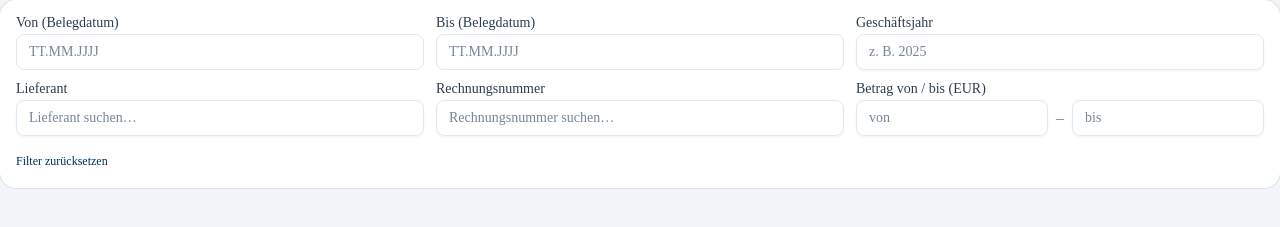
Test: ArchiveSearchFilters › minAmount > maxAmount shows German error message and blocks URL write for amounts
Type "500" into the number field named "Betrag von" at (952, 118), box [856,100,1048,136]
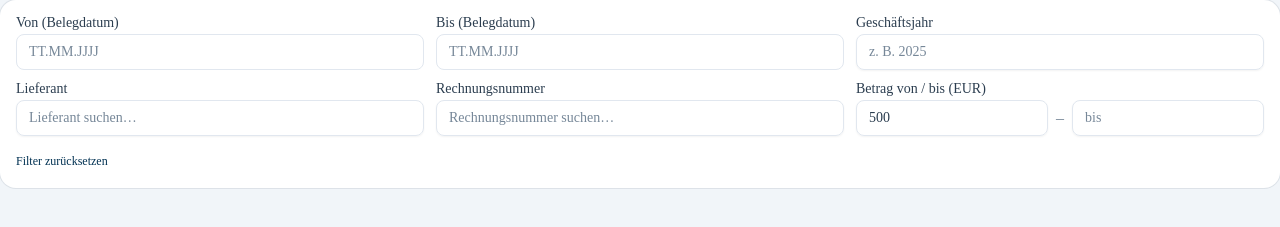
Type "100" into the number field named "Betrag bis" at (1168, 118), box [1072,100,1264,136]
Wait 300 ms
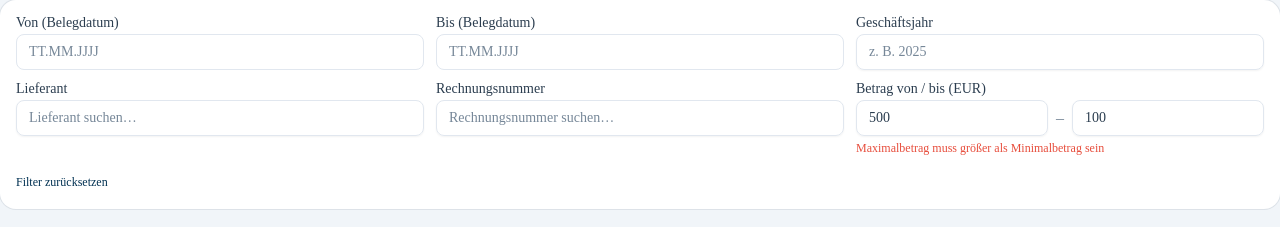
Check: the message reads "Maximalbetrag muss größer als Minimalbetrag sein", box [856,141,1104,155]
